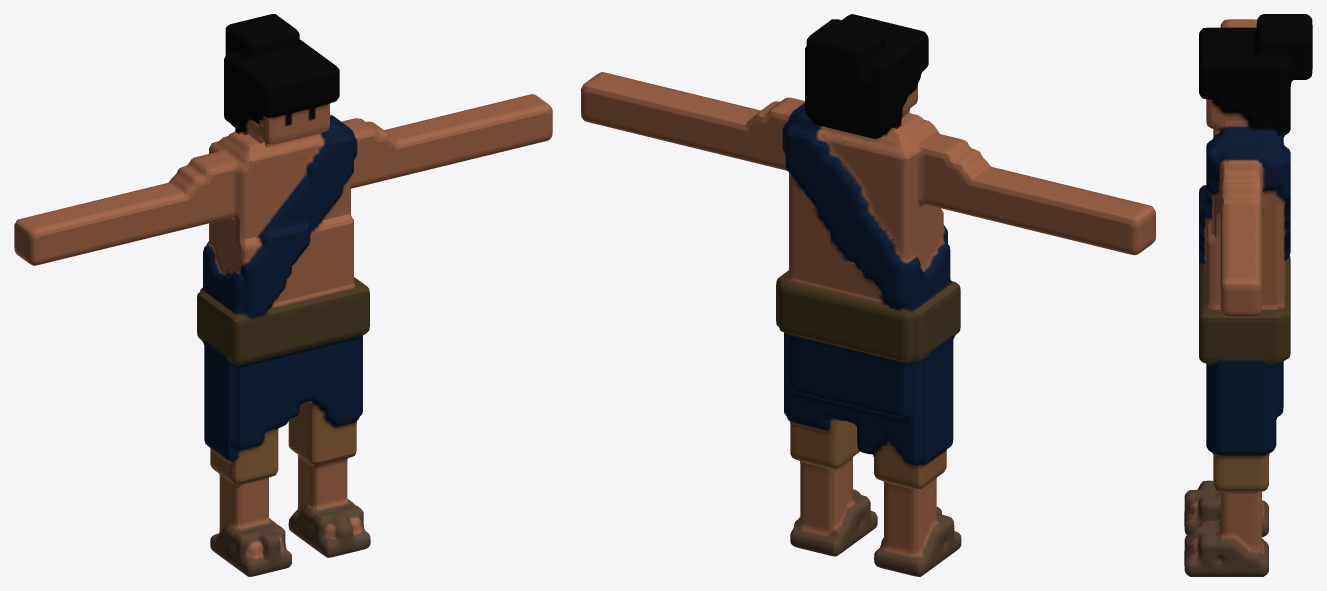
Rendered from normies2.fbx.
The picture shows the model from 3 angles, left to right: view 1: azimuth 30°, elevation 25°; view 2: azimuth 150°, elevation 25°; view 3: azimuth 270°, elevation 25°; orthographic projection. The views are drawn at different scales.
Visible parts, largest first — view 1: Object; view 2: Object; view 3: Object.
Boxes of the visible parts, <box> form: Object: <box>14,14,552,576</box>; Object: <box>581,14,1155,576</box>; Object: <box>1184,14,1312,576</box>.
Bounding box in the file's own units: 102 × 93.77 × 20.82.
1 material, 1 textured.
